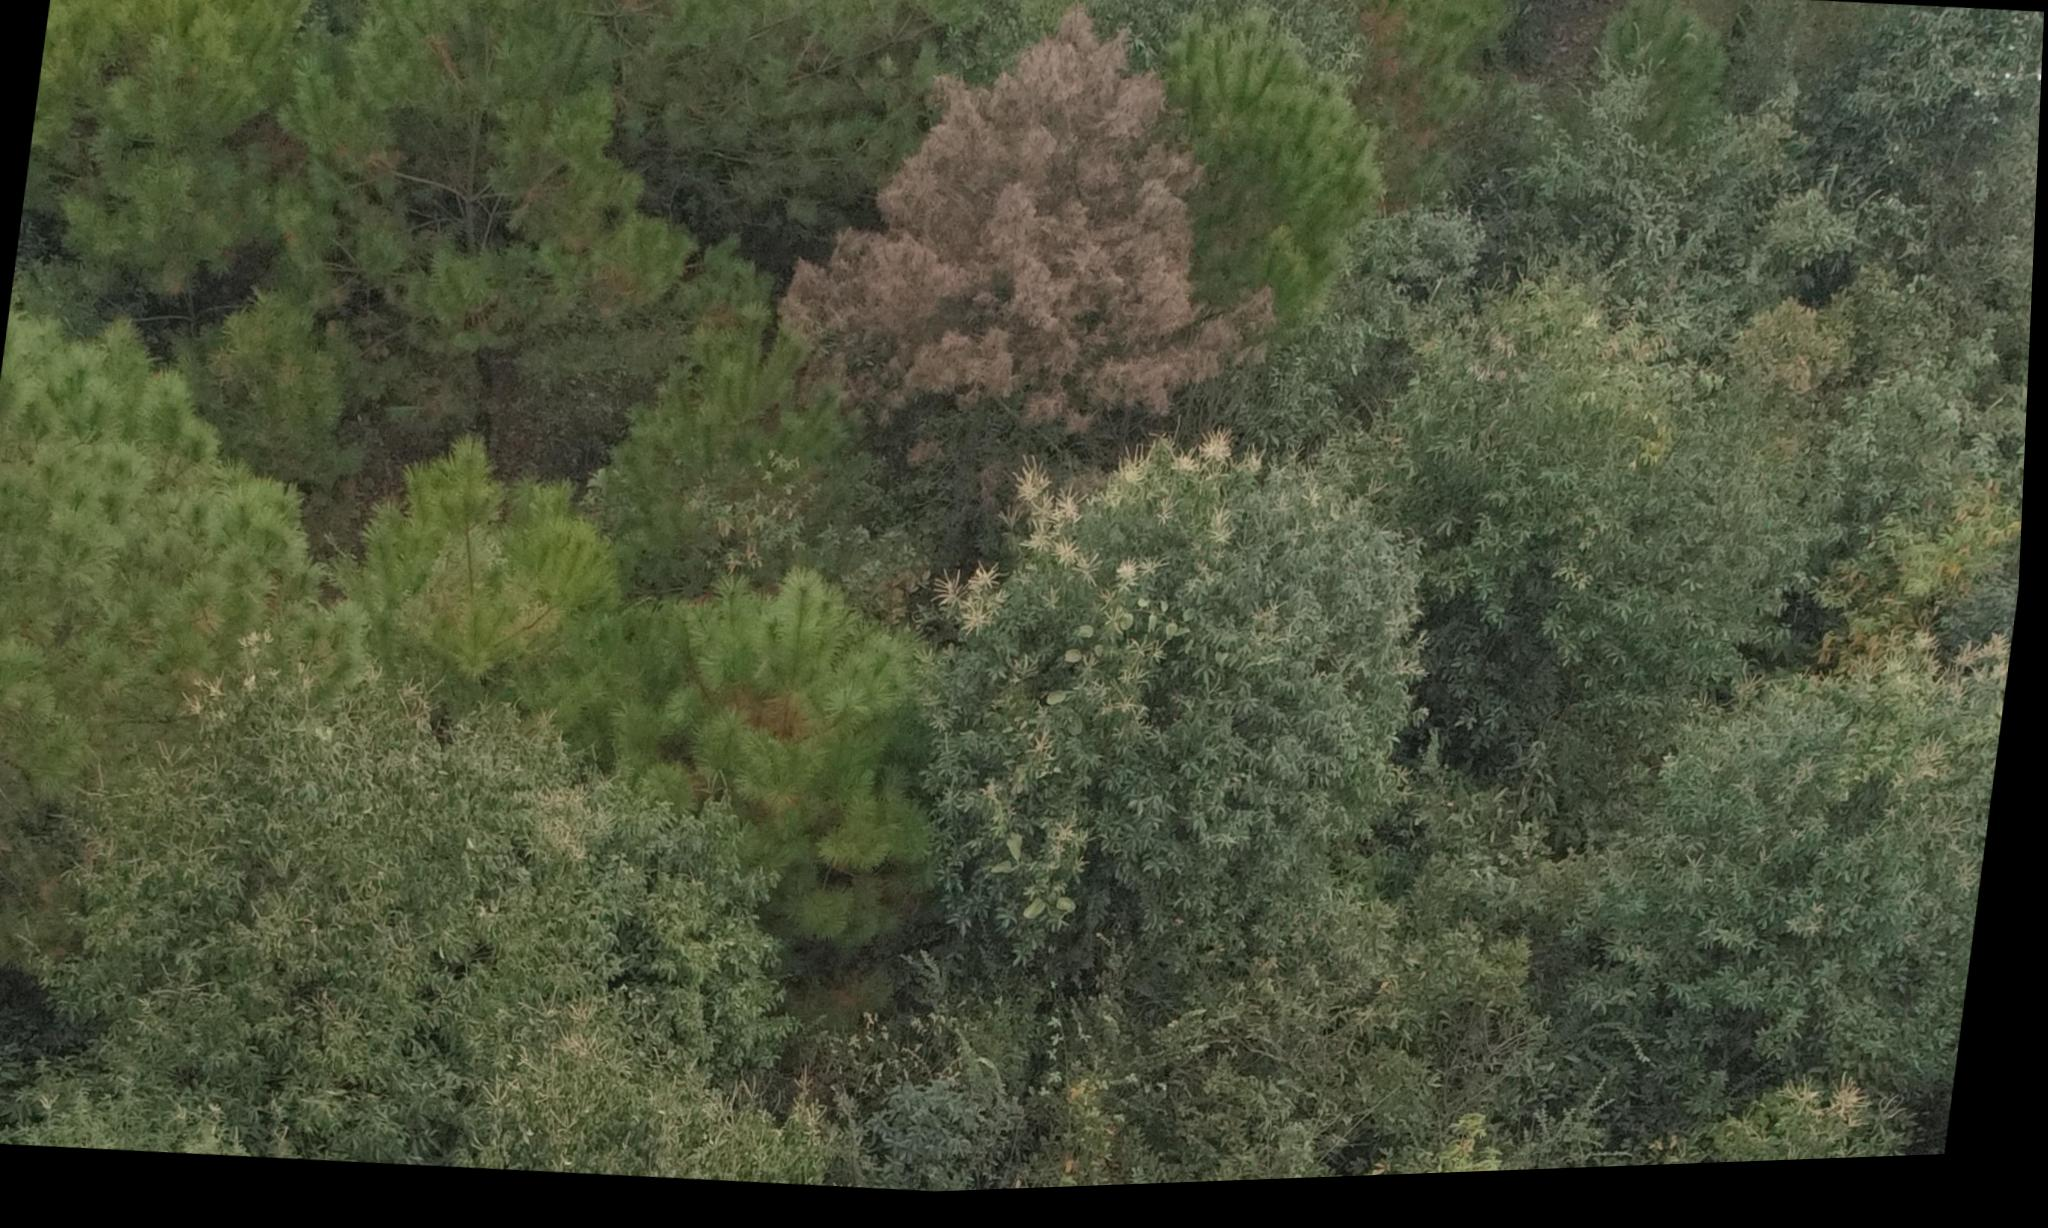heavy: (765, 0, 1317, 504)
light: (308, 4, 690, 367), (614, 595, 941, 855)
